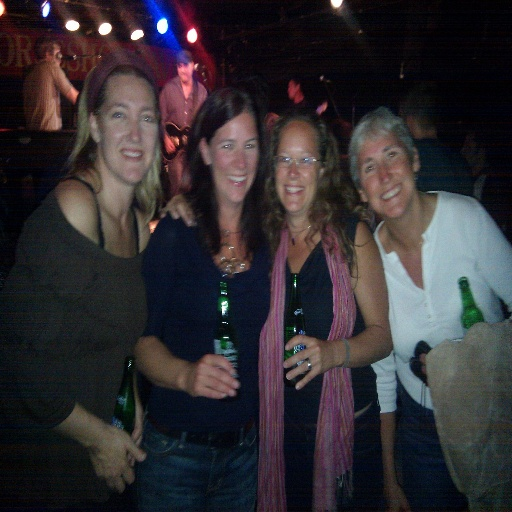hand: (88, 424, 145, 494), (282, 331, 336, 391), (180, 354, 239, 407), (159, 192, 196, 224), (128, 403, 145, 462), (384, 483, 409, 511), (164, 133, 176, 153), (418, 351, 426, 374)
